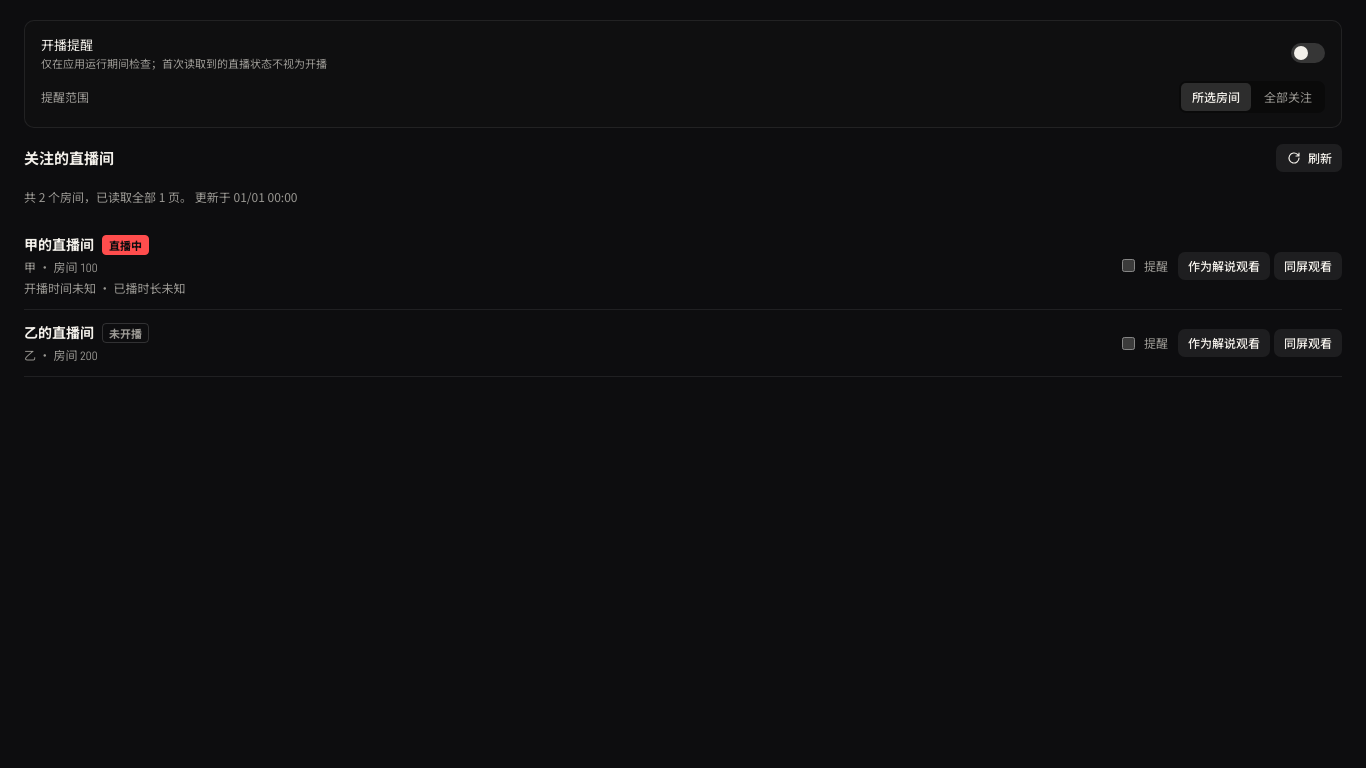
Test: followed rooms › shows why an extra stream could not be opened
Check: the list item "甲的直播间 直播中 甲 · 房间 100 开播时间未知 · 已播时长未知 提醒 作为解说观看 同屏观看" is shown, box [24, 222, 1342, 310]
Click the button "同屏观看" in the row of "甲的直播间" at (1308, 266), box [1274, 252, 1342, 280]
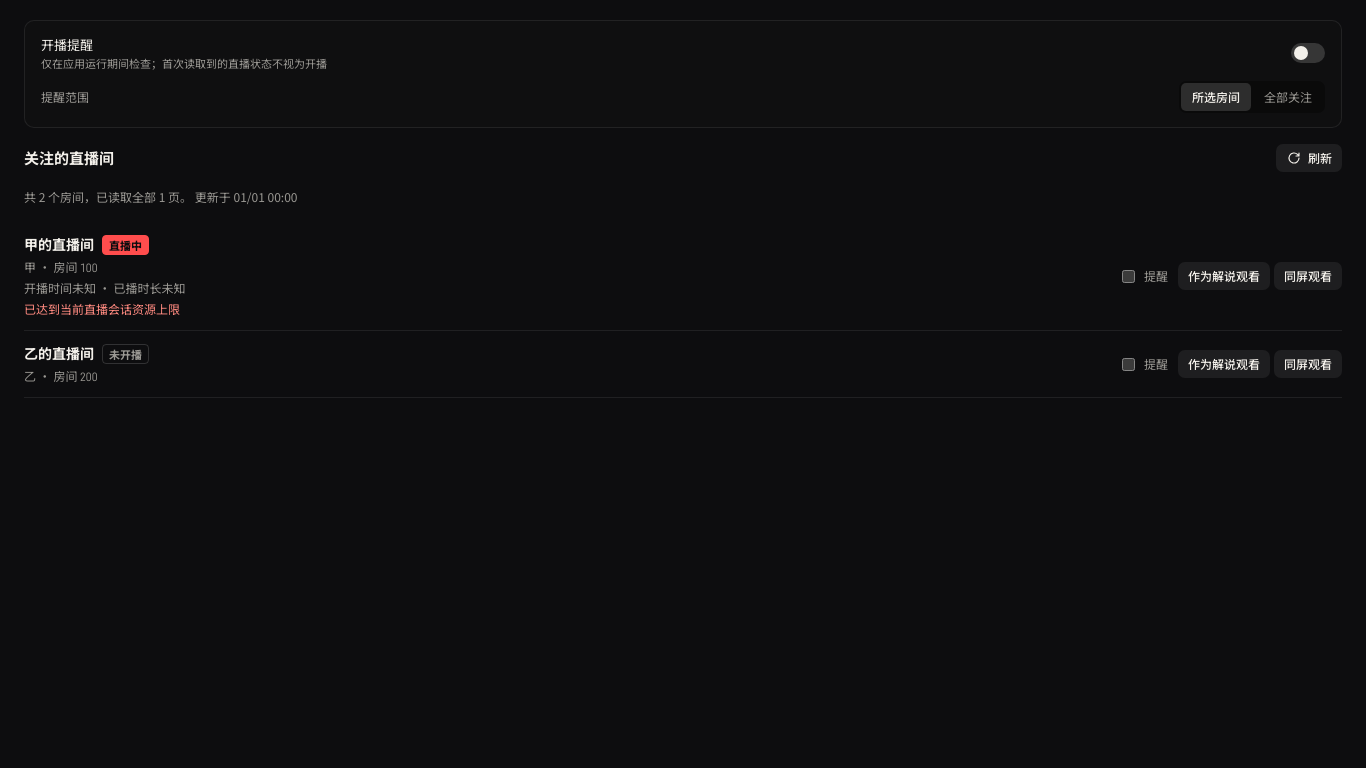
Check: the message reads "已达到当前直播会话资源上限", box [24, 300, 180, 317]
